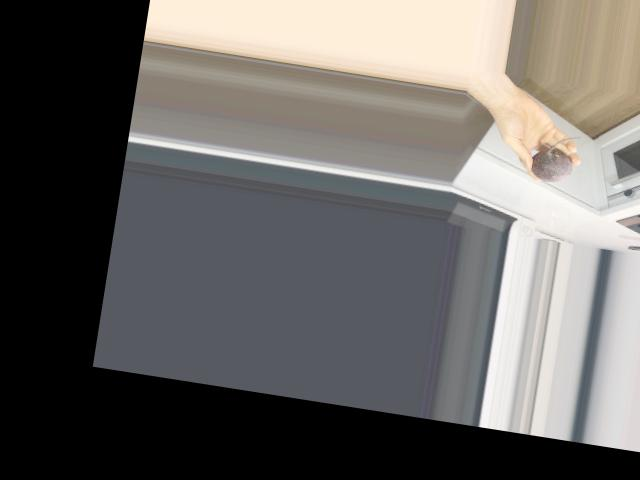beet: (529, 130, 582, 185)
